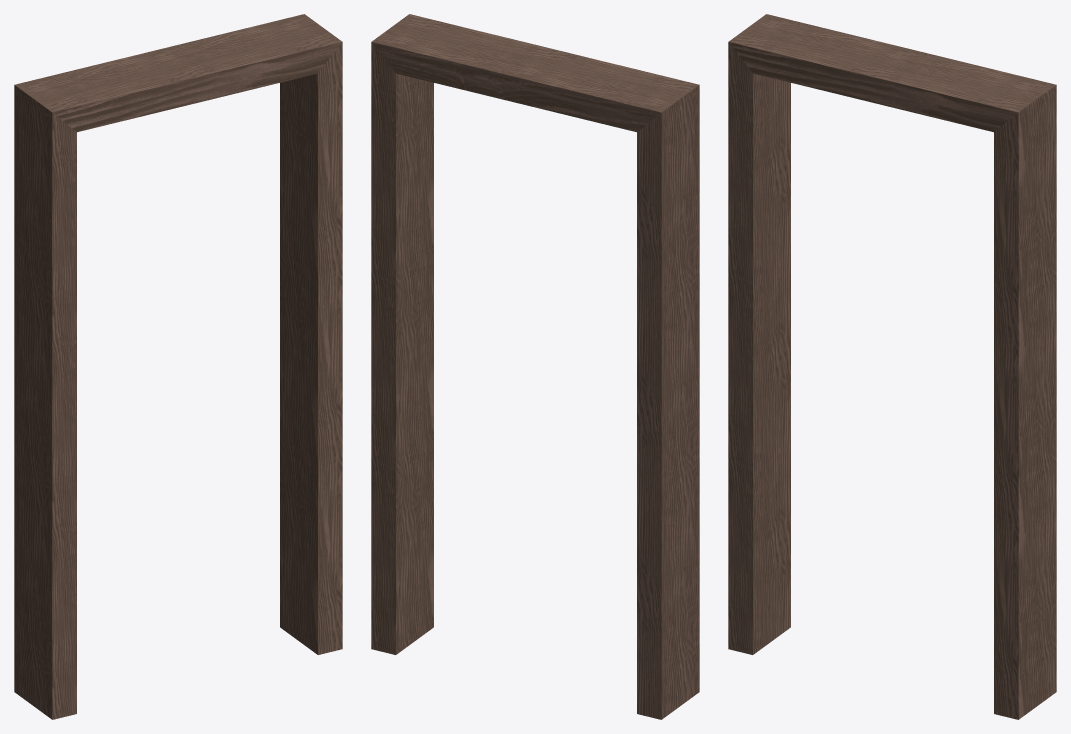
The model's file is door_027.fbx.
The picture shows the model from 3 angles, left to right: view 1: azimuth 30°, elevation 25°; view 2: azimuth 150°, elevation 25°; view 3: azimuth 330°, elevation 25°; orthographic projection.
Parts seen in each view (by area): view 1: door_027; view 2: door_027; view 3: door_027.
Boxes of the visible parts, box(x1,y1,x2,y2) form: door_027: box(14, 14, 342, 719); door_027: box(371, 14, 699, 719); door_027: box(728, 14, 1056, 719).
Size of the model in its own units: 115 by 26.01 by 229.
